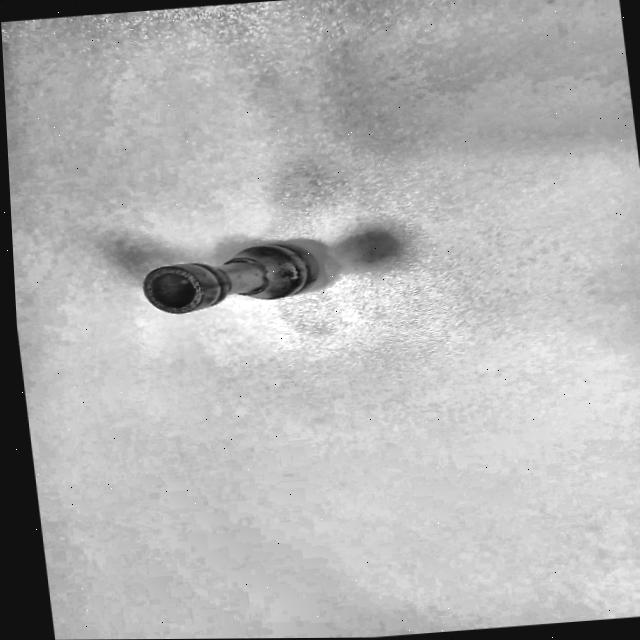black-rook: (121, 229, 349, 330)
